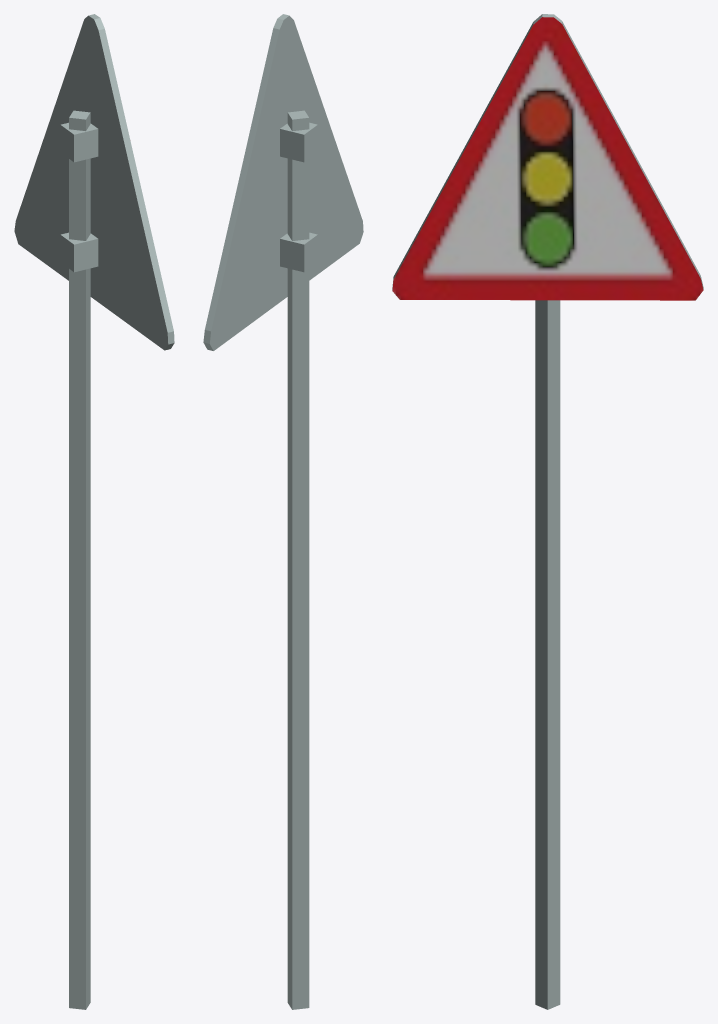
File: traffic sign 6.fbx
The picture shows the model from 3 angles, left to right: view 1: azimuth 30°, elevation 25°; view 2: azimuth 150°, elevation 25°; view 3: azimuth 270°, elevation 25°; orthographic projection.
Parts seen in each view (by area): view 1: sign cycle form; view 2: sign cycle form; view 3: sign cycle form.
Boxes of the visible parts, bbox=[...] form: sign cycle form: bbox=[14, 14, 174, 1009]; sign cycle form: bbox=[203, 14, 363, 1009]; sign cycle form: bbox=[392, 14, 703, 1009].
Size of the model in its own units: 6.47 by 199 by 56.42.
